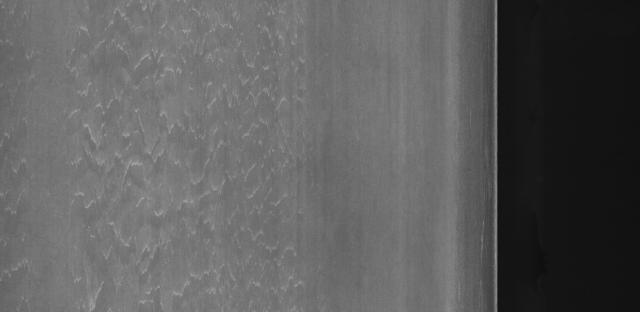silk_spot: (62, 11, 309, 312)
